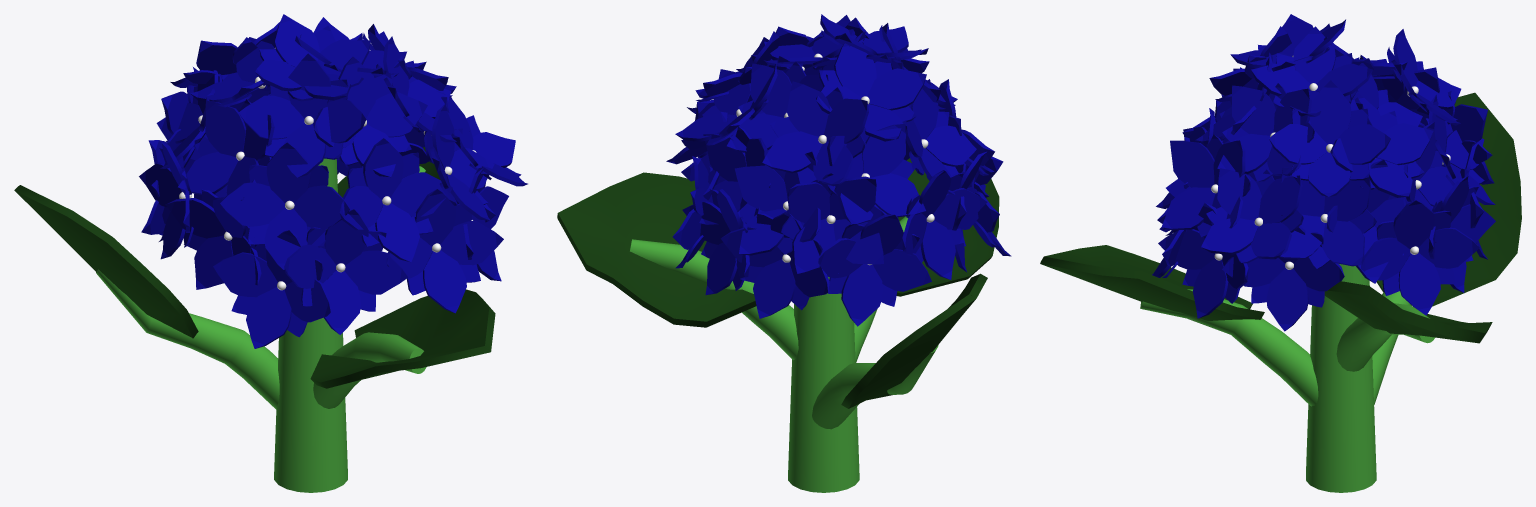
File: hydrangeav2.fbx
The picture shows the model from 3 angles, left to right: view 1: azimuth 30°, elevation 25°; view 2: azimuth 150°, elevation 25°; view 3: azimuth 270°, elevation 25°; orthographic projection. The views are drawn at different scales.
Parts seen in each view (by area): view 1: Cylinder003; view 2: Cylinder003; view 3: Cylinder003.
Part boxes in pixels (<box>): Cylinder003: <box>14,14,527,492</box>; Cylinder003: <box>557,14,1011,492</box>; Cylinder003: <box>1040,14,1521,492</box>.
Bounding box in the file's own units: 0.9705 × 0.9698 × 0.9474.
